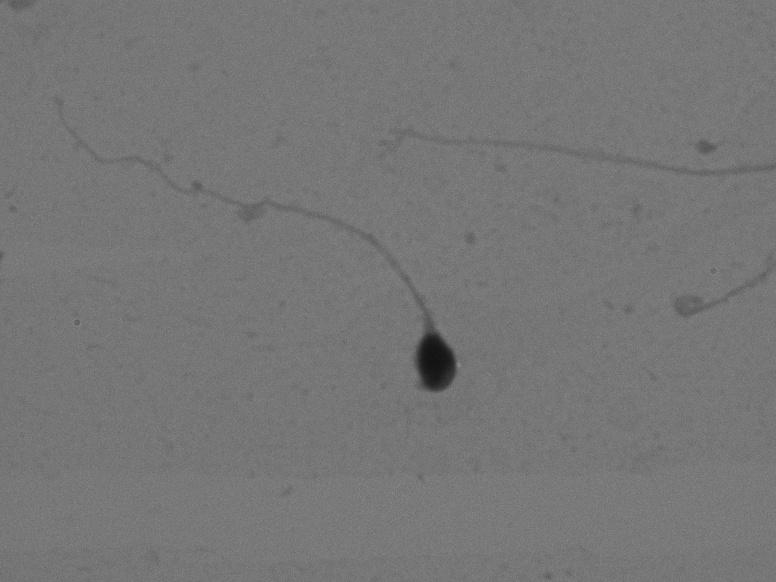Abnormal: (47, 95, 480, 409)
